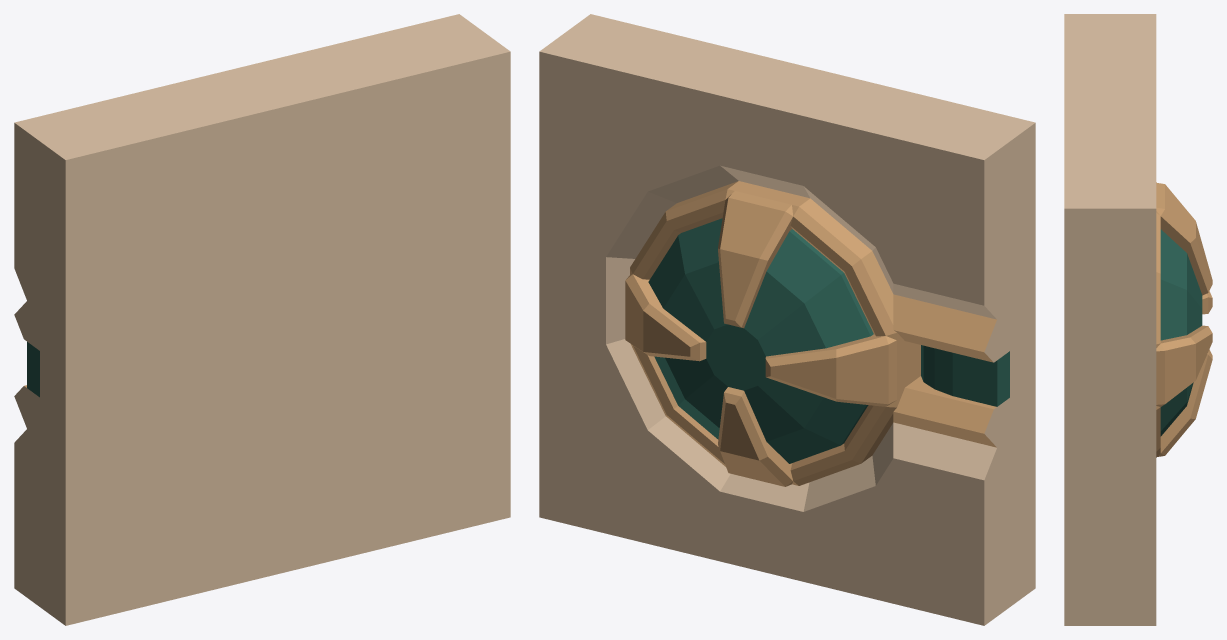
File: Puzzle_Wall_Conduit_Indicator_1.fbx
3 renders of one model, left to right at view 1: azimuth 30°, elevation 25°; view 2: azimuth 150°, elevation 25°; view 3: azimuth 270°, elevation 25°, orthographic. The views are drawn at different scales.
Parts seen in each view (by area): view 1: Sandstone_Trim.Sandstone_Trim.Sandstone_Trim.Sandstone_Trim.; view 2: Sandstone_Trim.Sandstone_Trim.Sandstone_Trim.Sandstone_Trim., object3, object2, Sandstone_5.Sandstone_5.Sandstone_5.Sandstone_5, object1; view 3: Sandstone_Trim.Sandstone_Trim.Sandstone_Trim.Sandstone_Trim., object3, object2.
Part boxes in pixels (x1,y1,x2,y2): Sandstone_Trim.Sandstone_Trim.Sandstone_Trim.Sandstone_Trim.: (14, 14, 510, 625); Sandstone_Trim.Sandstone_Trim.Sandstone_Trim.Sandstone_Trim.: (539, 14, 1035, 625); object3: (625, 181, 920, 486); object2: (648, 218, 873, 463); Sandstone_5.Sandstone_5.Sandstone_5.Sandstone_5: (893, 294, 996, 447); object1: (921, 345, 1009, 406); Sandstone_Trim.Sandstone_Trim.Sandstone_Trim.Sandstone_Trim.: (1064, 14, 1156, 625); object3: (1156, 182, 1212, 457); object2: (1160, 229, 1202, 436).
Bounding box in the file's own units: 1 × 1 × 0.3222.
